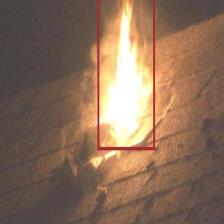fire: (97, 0, 154, 149)
